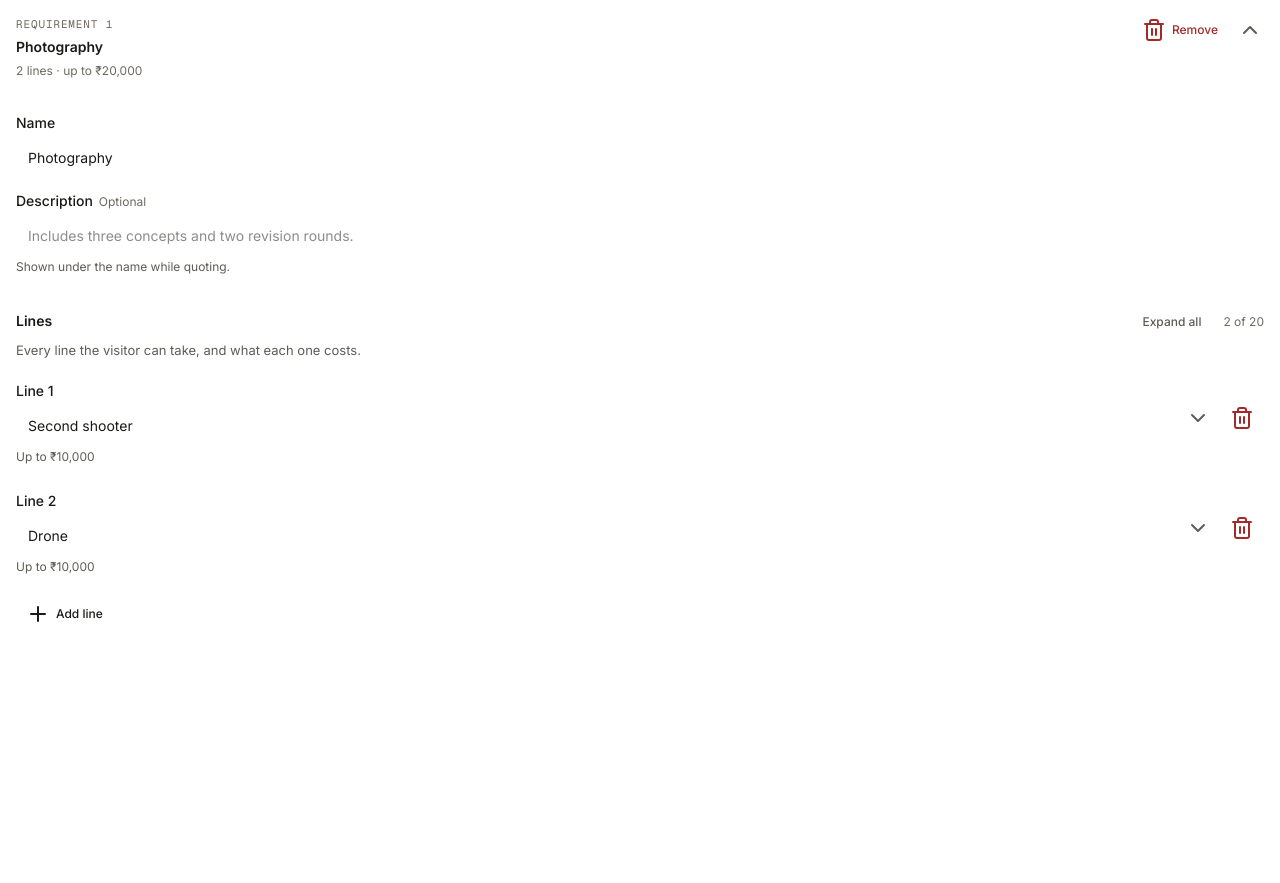
ServiceEditor lines › expands every line at once, then folds them back
The width and height of the screenshot is (1280, 883).
Click the button "Expand all".
click(1172, 322)  # box [1132, 308, 1211, 336]
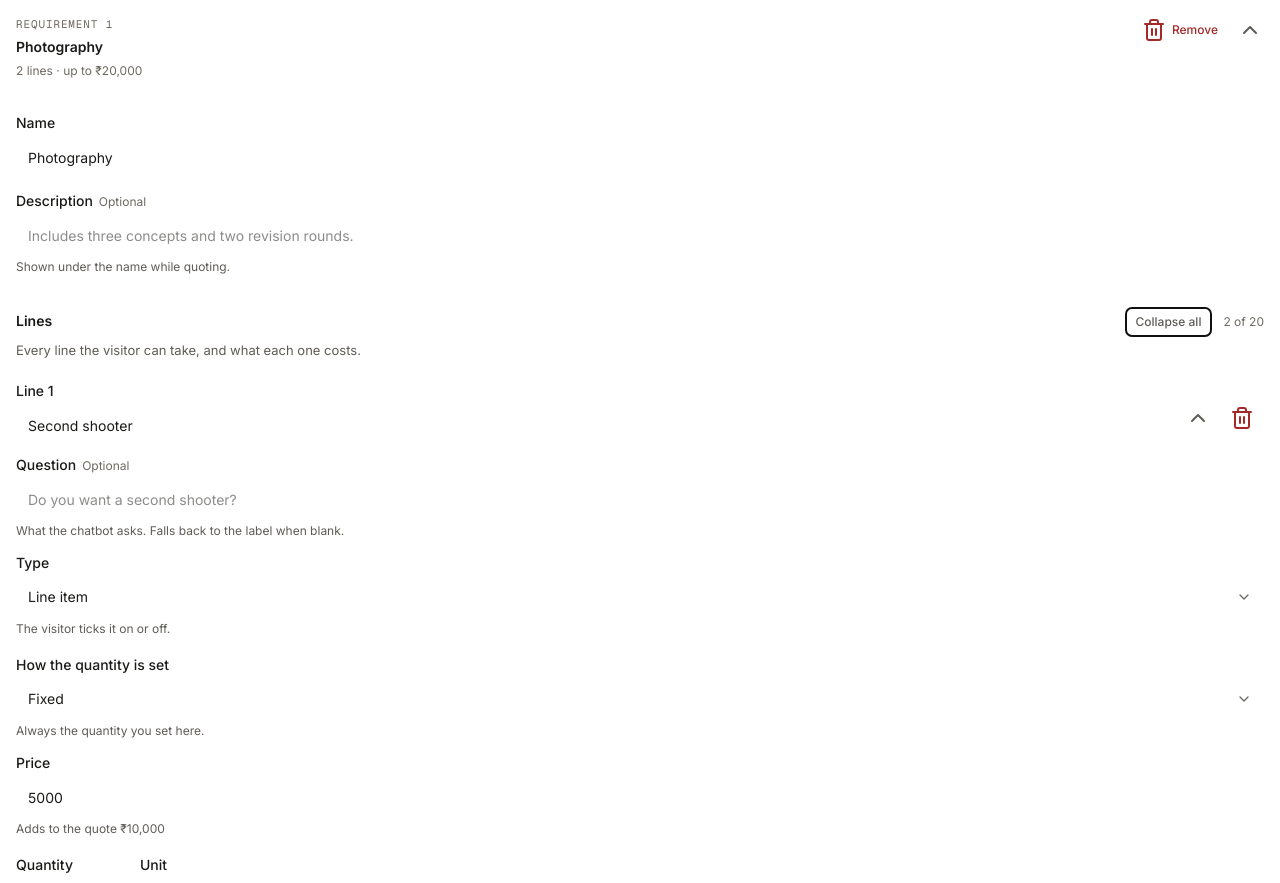
Check: the number of fields labelled "Question" is 2
Click the button "Collapse all".
click(1168, 322)  # box [1126, 308, 1211, 336]
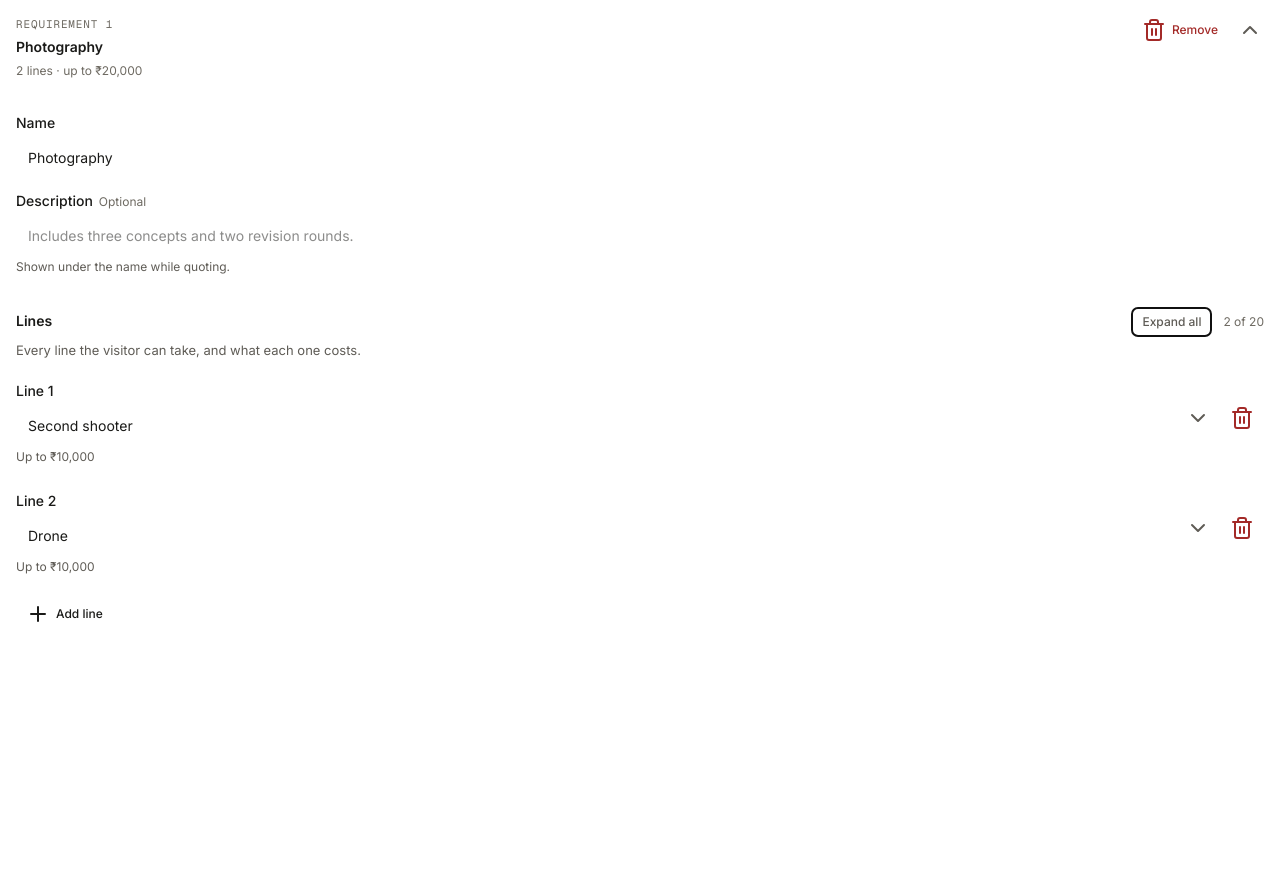
Check: the label labelled "Question" is gone
